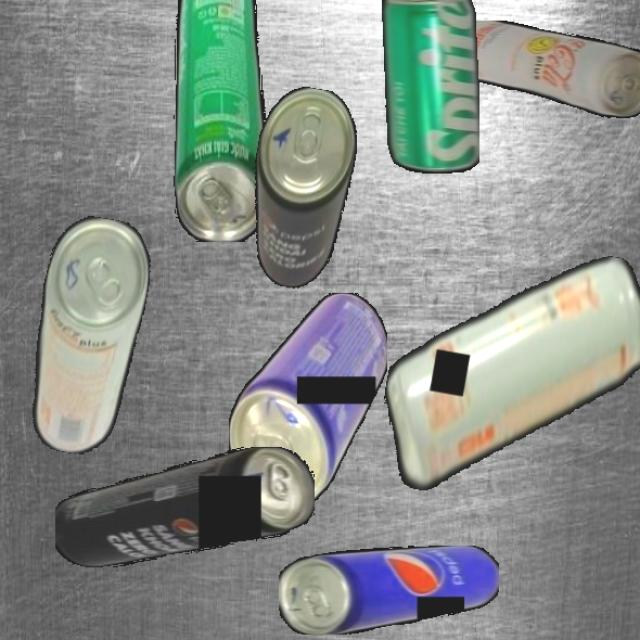debris: (370, 222, 640, 524), (17, 210, 158, 461), (228, 292, 387, 505), (54, 447, 315, 567), (236, 81, 366, 294), (172, 0, 267, 242), (279, 544, 499, 634), (443, 20, 640, 118), (381, 0, 479, 174)
